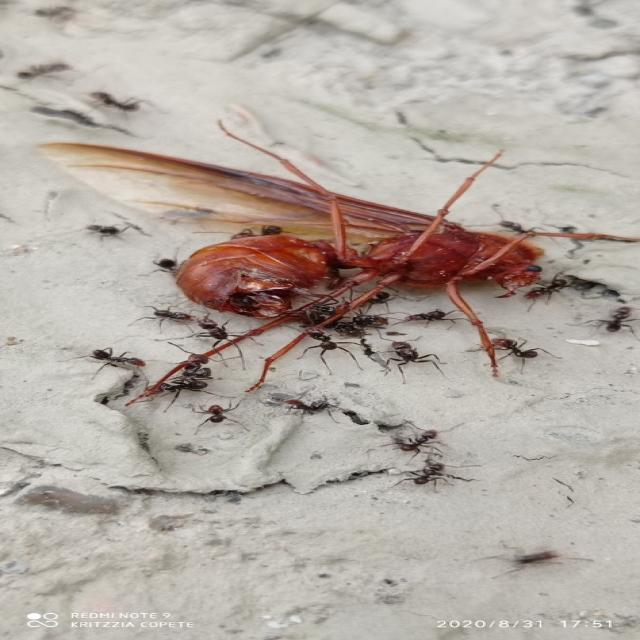Dead-Male-Alate: (37, 119, 640, 408)
